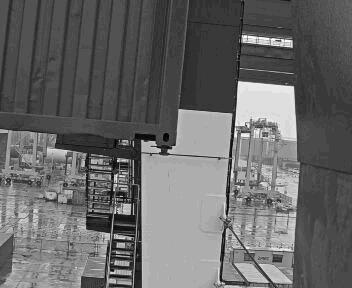twist_lock_1: (158, 169, 215, 208)
